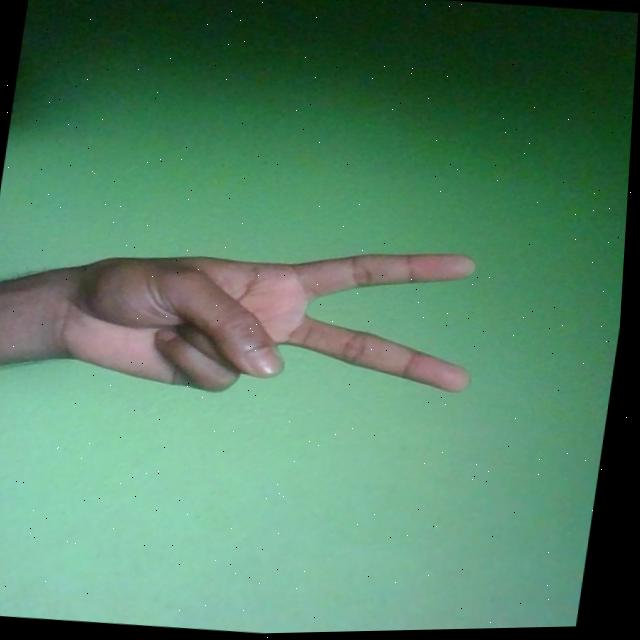Peace: (45, 220, 492, 418)
